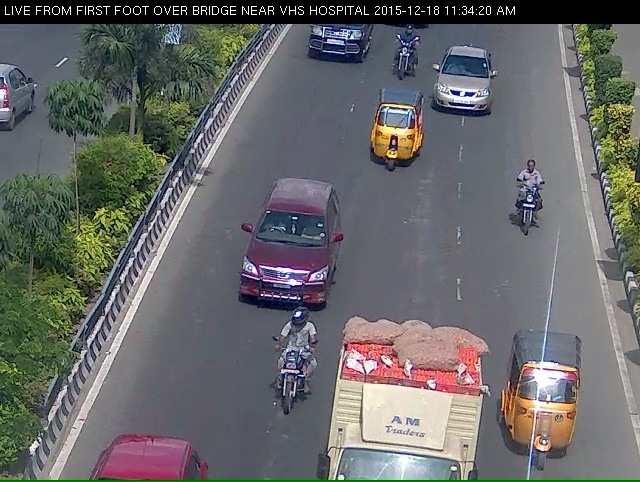Bus: (331, 342, 480, 477)
Car: (243, 198, 339, 333), (497, 345, 589, 479), (420, 51, 516, 136), (359, 99, 423, 191), (294, 16, 372, 72)
Person: (251, 326, 318, 445), (517, 173, 555, 265), (381, 32, 409, 92)
